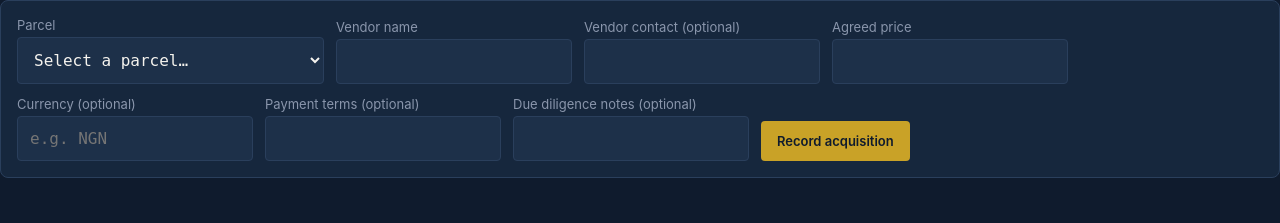
Test: RecordAcquisitionForm › falls back to a generic error message when the action fails without one
This screenshot has width=1280, height=223.
Step 1. Select "LP-001 — Riverside Parcel A" in the dropdown labelled "Parcel" → (170, 60), box [17,37,324,84]
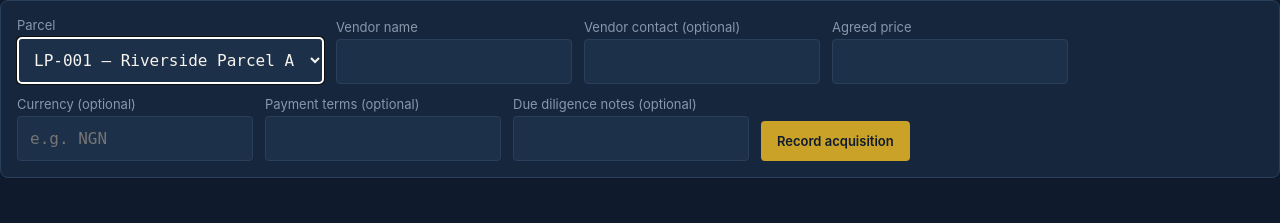
Step 2. Type "Acme Land Holdings" into the field labelled "Vendor name" → (454, 62), box [336,39,572,84]
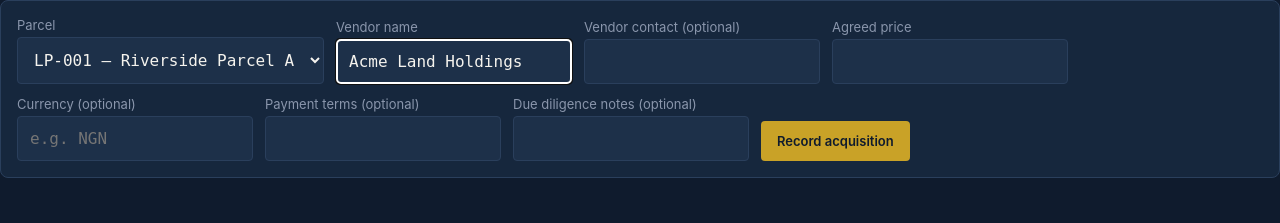
Step 3. Type "5000000" into the number field labelled "Agreed price" → (950, 62), box [832,39,1068,84]
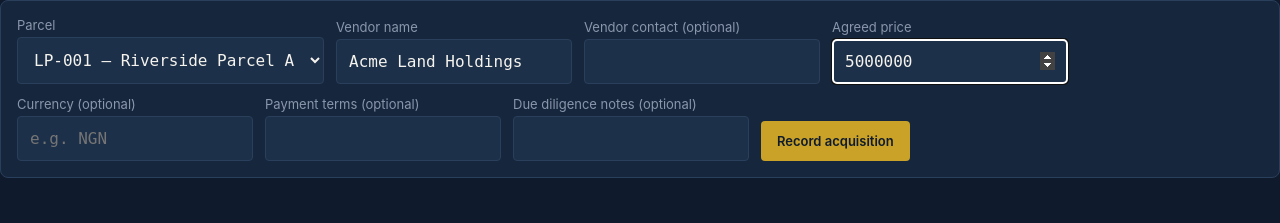
Step 4. Click the button "Record acquisition" → (835, 141), box [761,121,910,161]
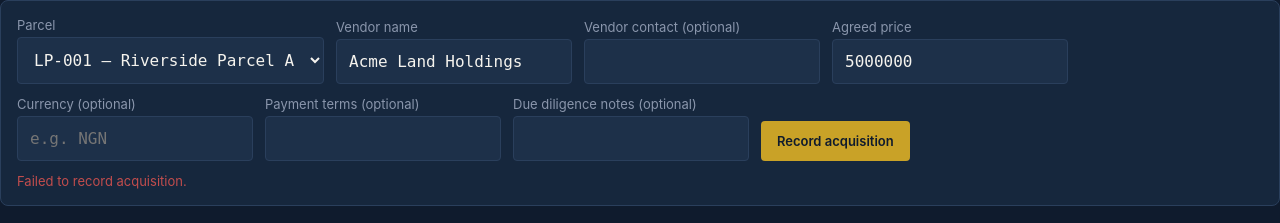
expect the text "Failed to record acquisition." is shown: met, box [17,173,187,189]
